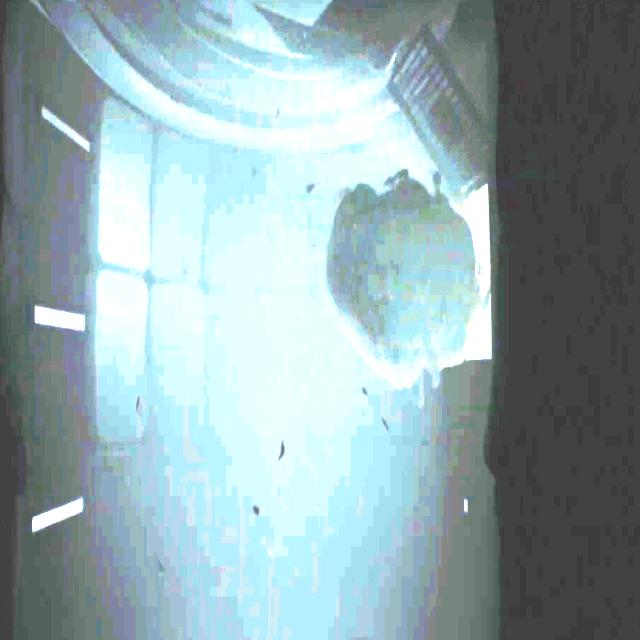blob: (329, 168, 491, 386)
